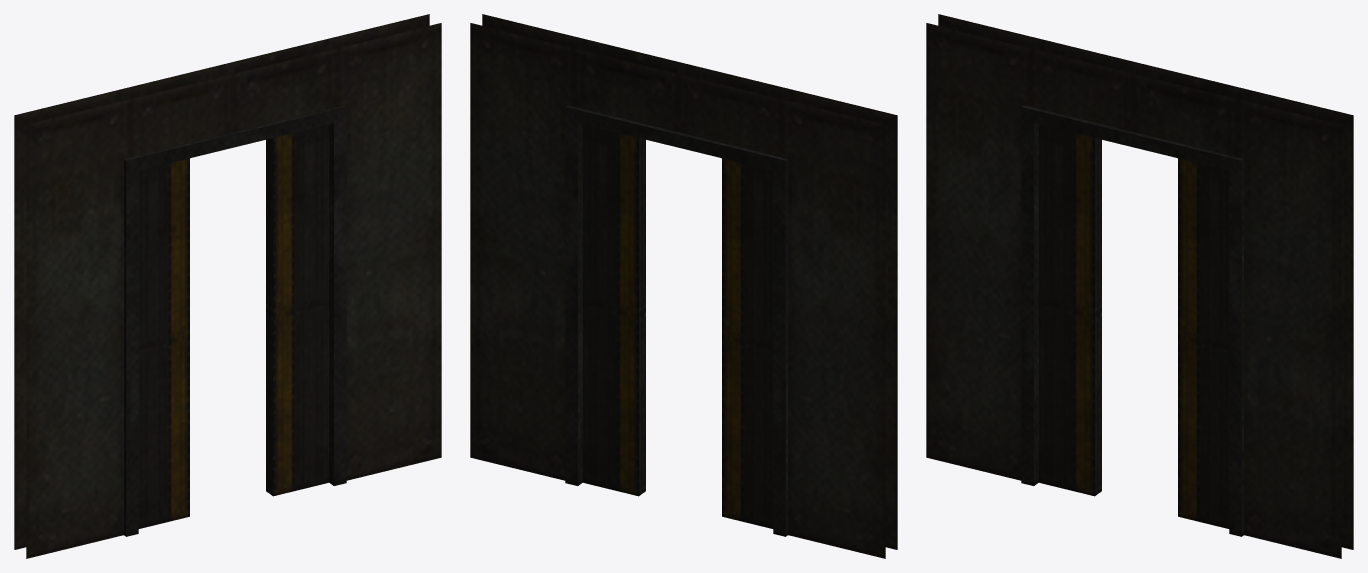
The model's file is doorway_slim_1.obj.
3 renders of one model, left to right at view 1: azimuth 30°, elevation 25°; view 2: azimuth 150°, elevation 25°; view 3: azimuth 330°, elevation 25°, orthographic.
Parts seen in each view (by area): view 1: doorway_slim_1, door_slim_1_a.001, door_slim_1_b.001; view 2: doorway_slim_1, door_slim_1_a.001, door_slim_1_b.001; view 3: doorway_slim_1, door_slim_1_b.001, door_slim_1_a.001.
Boxes of the visible parts, x1,y1,x2,y2 form: doorway_slim_1: (14,14,441,558); door_slim_1_a.001: (266,124,329,496); door_slim_1_b.001: (138,158,189,528); doorway_slim_1: (470,14,897,558); door_slim_1_a.001: (582,124,645,496); door_slim_1_b.001: (722,158,773,528); doorway_slim_1: (926,14,1353,558); door_slim_1_b.001: (1038,124,1101,496); door_slim_1_a.001: (1178,158,1229,528).
Size of the model in its own units: 2 by 2 by 0.14.
